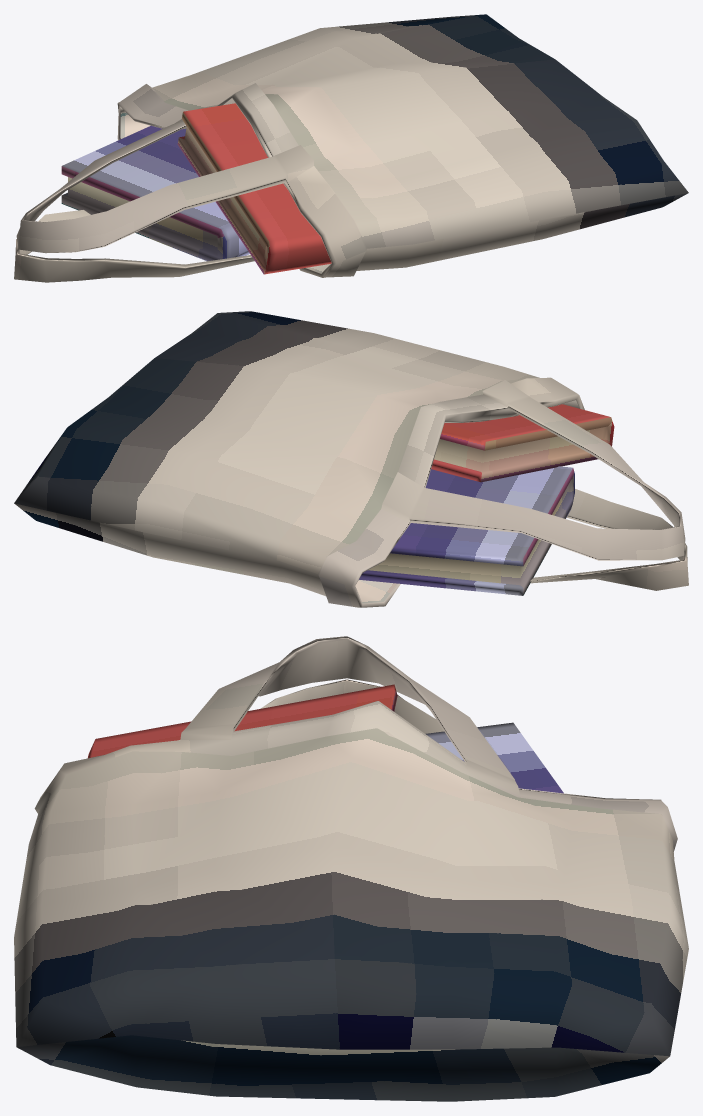
File: a_sch_entrance01_obj_bag02.gltf
The picture shows the model from 3 angles, top to bottom: view 1: azimuth 30°, elevation 25°; view 2: azimuth 150°, elevation 25°; view 3: azimuth 270°, elevation 25°; orthographic projection. The views are drawn at different scales.
Visible parts, largest first — view 1: a_sch_entrance01_obj_bag02_mesh_shape:a_sch_class1a_hook01_b, a_sch_entrance01_obj_bag02_mesh_shape:a_sch_class1a_deskbook; view 2: a_sch_entrance01_obj_bag02_mesh_shape:a_sch_class1a_hook01_b, a_sch_entrance01_obj_bag02_mesh_shape:a_sch_class1a_deskbook; view 3: a_sch_entrance01_obj_bag02_mesh_shape:a_sch_class1a_hook01_b, a_sch_entrance01_obj_bag02_mesh_shape:a_sch_class1a_deskbook.
Part boxes in pixels (<box>): a_sch_entrance01_obj_bag02_mesh_shape:a_sch_class1a_hook01_b: <box>14,14,688,282</box>; a_sch_entrance01_obj_bag02_mesh_shape:a_sch_class1a_deskbook: <box>61,103,331,274</box>; a_sch_entrance01_obj_bag02_mesh_shape:a_sch_class1a_hook01_b: <box>14,311,688,607</box>; a_sch_entrance01_obj_bag02_mesh_shape:a_sch_class1a_deskbook: <box>359,404,614,595</box>; a_sch_entrance01_obj_bag02_mesh_shape:a_sch_class1a_hook01_b: <box>14,636,688,1101</box>; a_sch_entrance01_obj_bag02_mesh_shape:a_sch_class1a_deskbook: <box>88,684,563,793</box>.
Size of the model in its own units: 0.5424 by 0.1249 by 0.3939.
Materials: 2 (2 with a texture image).
